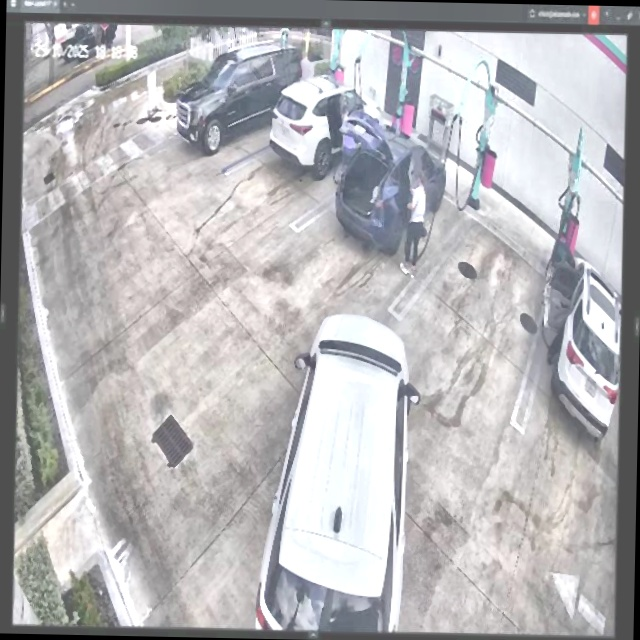Car: (257, 312, 423, 636), (333, 105, 448, 255), (174, 47, 303, 157), (270, 73, 383, 182)
